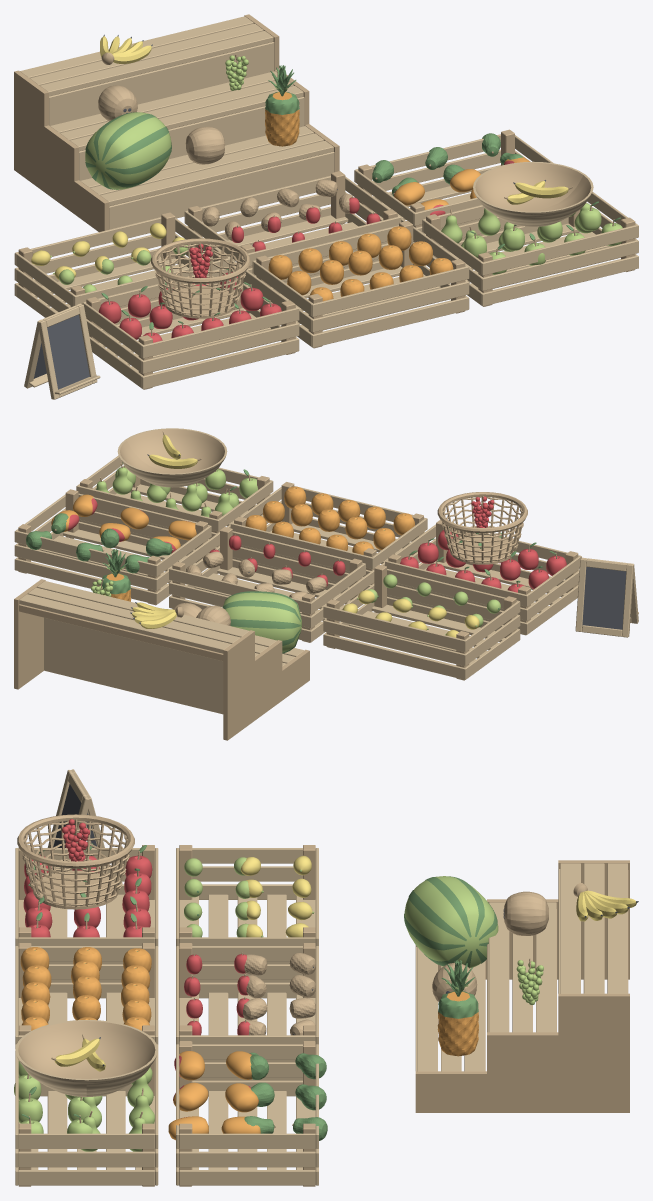
File: fresh-produce-and-groceries-greengrocer--86f48b0c-starter-scene.glb
The picture shows the model from 3 angles, top to bottom: view 1: azimuth 30°, elevation 25°; view 2: azimuth 150°, elevation 25°; view 3: azimuth 270°, elevation 25°; orthographic projection. The views are drawn at different scales.
Parts seen in each view (by area): view 1: 096-tiered-produce-riser/1, 000-wooden-produce-crate/1, 001-wooden-produce-crate/1, 002-wooden-produce-crate/1, 003-wooden-produce-crate/1, 096-tiered-produce-riser/0, 004-wooden-produce-crate/1, 005-wooden-produce-crate/1, 103-wicker-display-basket/0, 105-wooden-market-bowl/1, 097-watermelon-whole/0, 108-chalkboard-price-sign/0 (+18 smaller); view 2: 096-tiered-produce-riser/1, 003-wooden-produce-crate/1, 096-tiered-produce-riser/0, 005-wooden-produce-crate/1, 004-wooden-produce-crate/1, 000-wooden-produce-crate/1, 001-wooden-produce-crate/1, 002-wooden-produce-crate/1, 103-wicker-display-basket/0, 105-wooden-market-bowl/1, 108-chalkboard-price-sign/1, 097-watermelon-whole/0 (+16 smaller); view 3: 096-tiered-produce-riser/0, 096-tiered-produce-riser/1, 005-wooden-produce-crate/1, 002-wooden-produce-crate/1, 003-wooden-produce-crate/1, 004-wooden-produce-crate/1, 105-wooden-market-bowl/1, 103-wicker-display-basket/0, 000-wooden-produce-crate/1, 097-watermelon-whole/0, 001-wooden-produce-crate/1, 103-wicker-display-basket/1 (+24 smaller).
Boxes of the visible parts, left/top/right/bottom form: 096-tiered-produce-riser/1: left=20, top=16, right=334, bottom=229; 000-wooden-produce-crate/1: left=82, top=268, right=299, bottom=389; 001-wooden-produce-crate/1: left=252, top=225, right=469, bottom=347; 002-wooden-produce-crate/1: left=422, top=192, right=638, bottom=306; 003-wooden-produce-crate/1: left=14, top=217, right=230, bottom=328; 096-tiered-produce-riser/0: left=14, top=14, right=339, bottom=231; 004-wooden-produce-crate/1: left=184, top=175, right=401, bottom=287; 005-wooden-produce-crate/1: left=354, top=134, right=553, bottom=245; 103-wicker-display-basket/0: left=151, top=238, right=250, bottom=318; 105-wooden-market-bowl/1: left=475, top=162, right=591, bottom=211; 097-watermelon-whole/0: left=85, top=112, right=171, bottom=189; 108-chalkboard-price-sign/0: left=24, top=303, right=100, bottom=399; 096-tiered-produce-riser/1: left=19, top=581, right=303, bottom=714; 003-wooden-produce-crate/1: left=323, top=569, right=520, bottom=679; 096-tiered-produce-riser/0: left=14, top=579, right=309, bottom=740; 005-wooden-produce-crate/1: left=14, top=493, right=211, bottom=604; 004-wooden-produce-crate/1: left=169, top=531, right=365, bottom=642; 000-wooden-produce-crate/1: left=385, top=524, right=581, bottom=634; 001-wooden-produce-crate/1: left=230, top=486, right=427, bottom=590; 002-wooden-produce-crate/1: left=76, top=455, right=273, bottom=552; 103-wicker-display-basket/0: left=437, top=492, right=527, bottom=564; 105-wooden-market-bowl/1: left=120, top=429, right=224, bottom=473; 108-chalkboard-price-sign/1: left=582, top=567, right=630, bottom=629; 097-watermelon-whole/0: left=222, top=592, right=301, bottom=652; 096-tiered-produce-riser/0: left=415, top=860, right=629, bottom=1112; 096-tiered-produce-riser/1: left=415, top=863, right=627, bottom=1071; 005-wooden-produce-crate/1: left=176, top=1044, right=318, bottom=1185; 002-wooden-produce-crate/1: left=15, top=1044, right=158, bottom=1185; 003-wooden-produce-crate/1: left=176, top=848, right=318, bottom=982; 004-wooden-produce-crate/1: left=176, top=946, right=318, bottom=1080; 105-wooden-market-bowl/1: left=18, top=1021, right=155, bottom=1078; 103-wicker-display-basket/0: left=17, top=814, right=134, bottom=909; 000-wooden-produce-crate/1: left=15, top=848, right=158, bottom=982; 097-watermelon-whole/0: left=404, top=876, right=498, bottom=968; 001-wooden-produce-crate/1: left=15, top=946, right=158, bottom=1044; 103-wicker-display-basket/1: left=22, top=821, right=129, bottom=906.
Size of the model in its own units: 2.22 by 0.4184 by 1.75.
